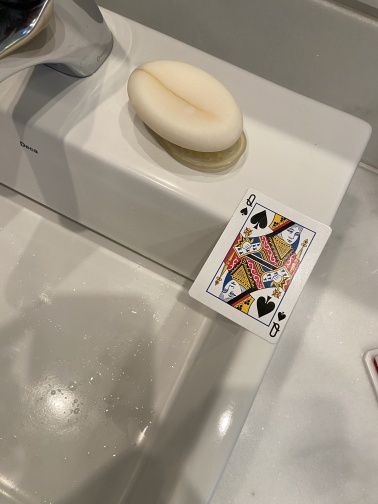queen: (186, 186, 333, 345)
